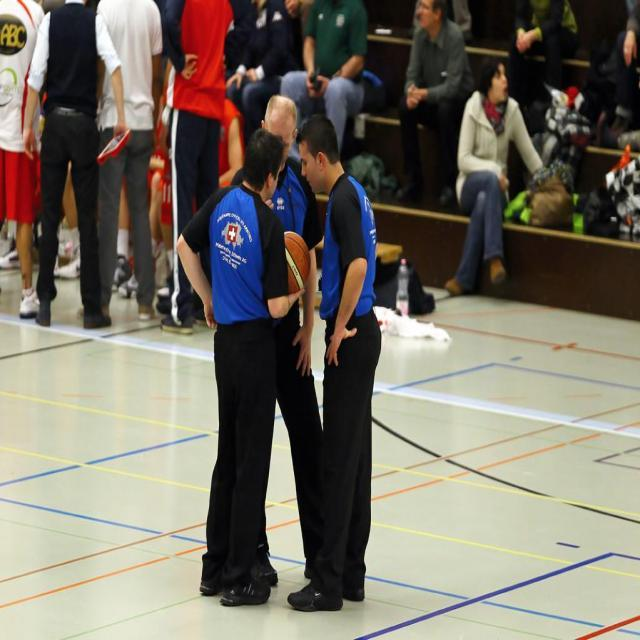rim: (279, 229, 312, 295)
